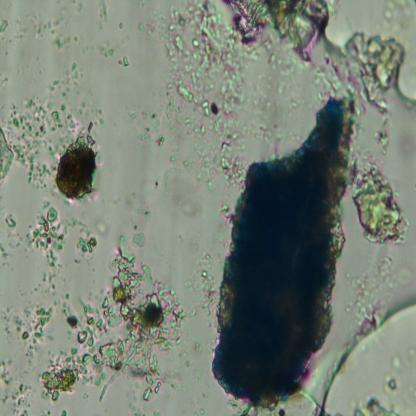Air bubble: (318, 300, 416, 416), (323, 0, 416, 108)
Background material: (33, 238, 187, 399), (158, 4, 243, 184), (223, 1, 326, 61), (348, 155, 409, 245), (38, 54, 110, 120), (13, 87, 57, 191), (52, 119, 101, 202), (345, 39, 402, 110), (347, 254, 392, 330), (188, 260, 225, 325), (123, 96, 166, 148), (0, 220, 42, 273), (9, 304, 52, 354), (33, 206, 65, 268), (156, 188, 201, 227), (67, 216, 99, 268), (118, 196, 152, 244), (35, 20, 80, 48), (5, 379, 33, 415), (352, 394, 398, 415), (0, 124, 14, 180), (89, 41, 118, 58), (0, 355, 12, 386), (96, 2, 108, 30), (2, 213, 17, 229), (116, 56, 130, 68), (0, 18, 9, 35), (60, 408, 68, 416)
Microfibre: (210, 97, 344, 403)
